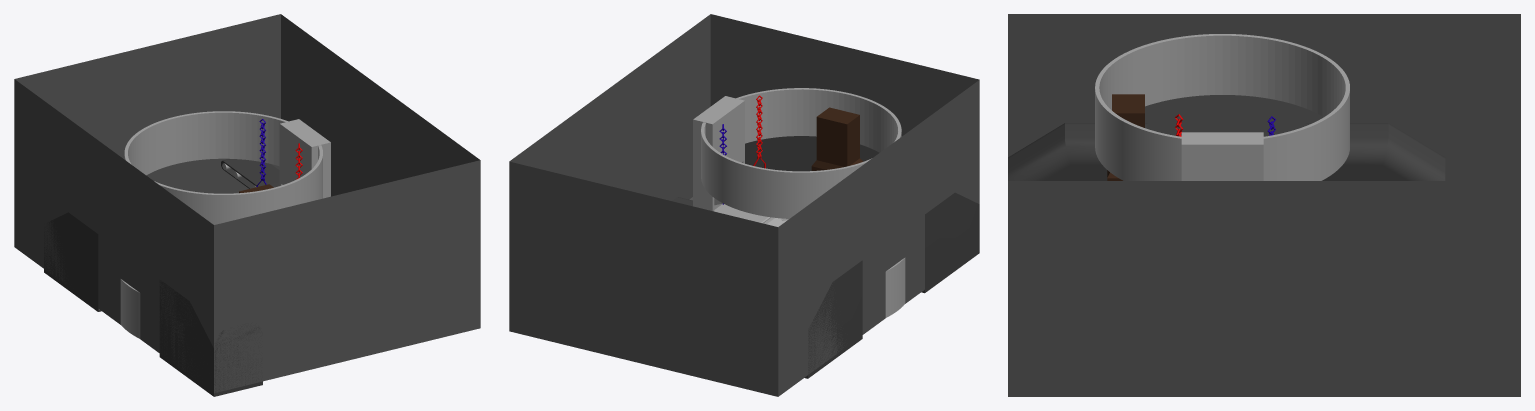
The picture shows the model from 3 angles, left to right: view 1: azimuth 30°, elevation 25°; view 2: azimuth 150°, elevation 25°; view 3: azimuth 270°, elevation 25°; orthographic projection. The views are drawn at different scales.
Visible parts, largest first — view 1: polySurface2, pCylinder17, pCube12, pCube25, pCube11, pCube22, pCylinder18; view 2: polySurface2, pCylinder17, pCube12, pCube25, pCube11, pCube16, pCylinder18; view 3: polySurface2, pCylinder17, pCube25, pCube12, pCube11, pCube16.
Boxes of the visible parts, left/top/right/bottom form: polySurface2: left=14, top=14, right=480, bottom=393; pCylinder17: left=124, top=111, right=322, bottom=224; pCube12: left=159, top=280, right=262, bottom=396; pCube25: left=44, top=212, right=101, bottom=311; pCube11: left=279, top=119, right=330, bottom=198; pCube22: left=221, top=159, right=279, bottom=188; pCylinder18: left=120, top=279, right=140, bottom=338; polySurface2: left=509, top=14, right=979, bottom=396; pCylinder17: left=701, top=88, right=901, bottom=218; pCube12: left=921, top=192, right=979, bottom=293; pCube25: left=804, top=260, right=862, bottom=378; pCube11: left=693, top=96, right=744, bottom=215; pCube16: left=811, top=107, right=863, bottom=170; pCylinder18: left=780, top=218, right=905, bottom=317; polySurface2: left=1008, top=14, right=1520, bottom=396; pCylinder17: left=1095, top=34, right=1349, bottom=180; pCube25: left=1305, top=123, right=1445, bottom=180; pCube12: left=1008, top=123, right=1147, bottom=180; pCube11: left=1181, top=132, right=1263, bottom=180; pCube16: left=1107, top=94, right=1144, bottom=180.
Bounding box in the file's own units: 563 × 345 × 726.
